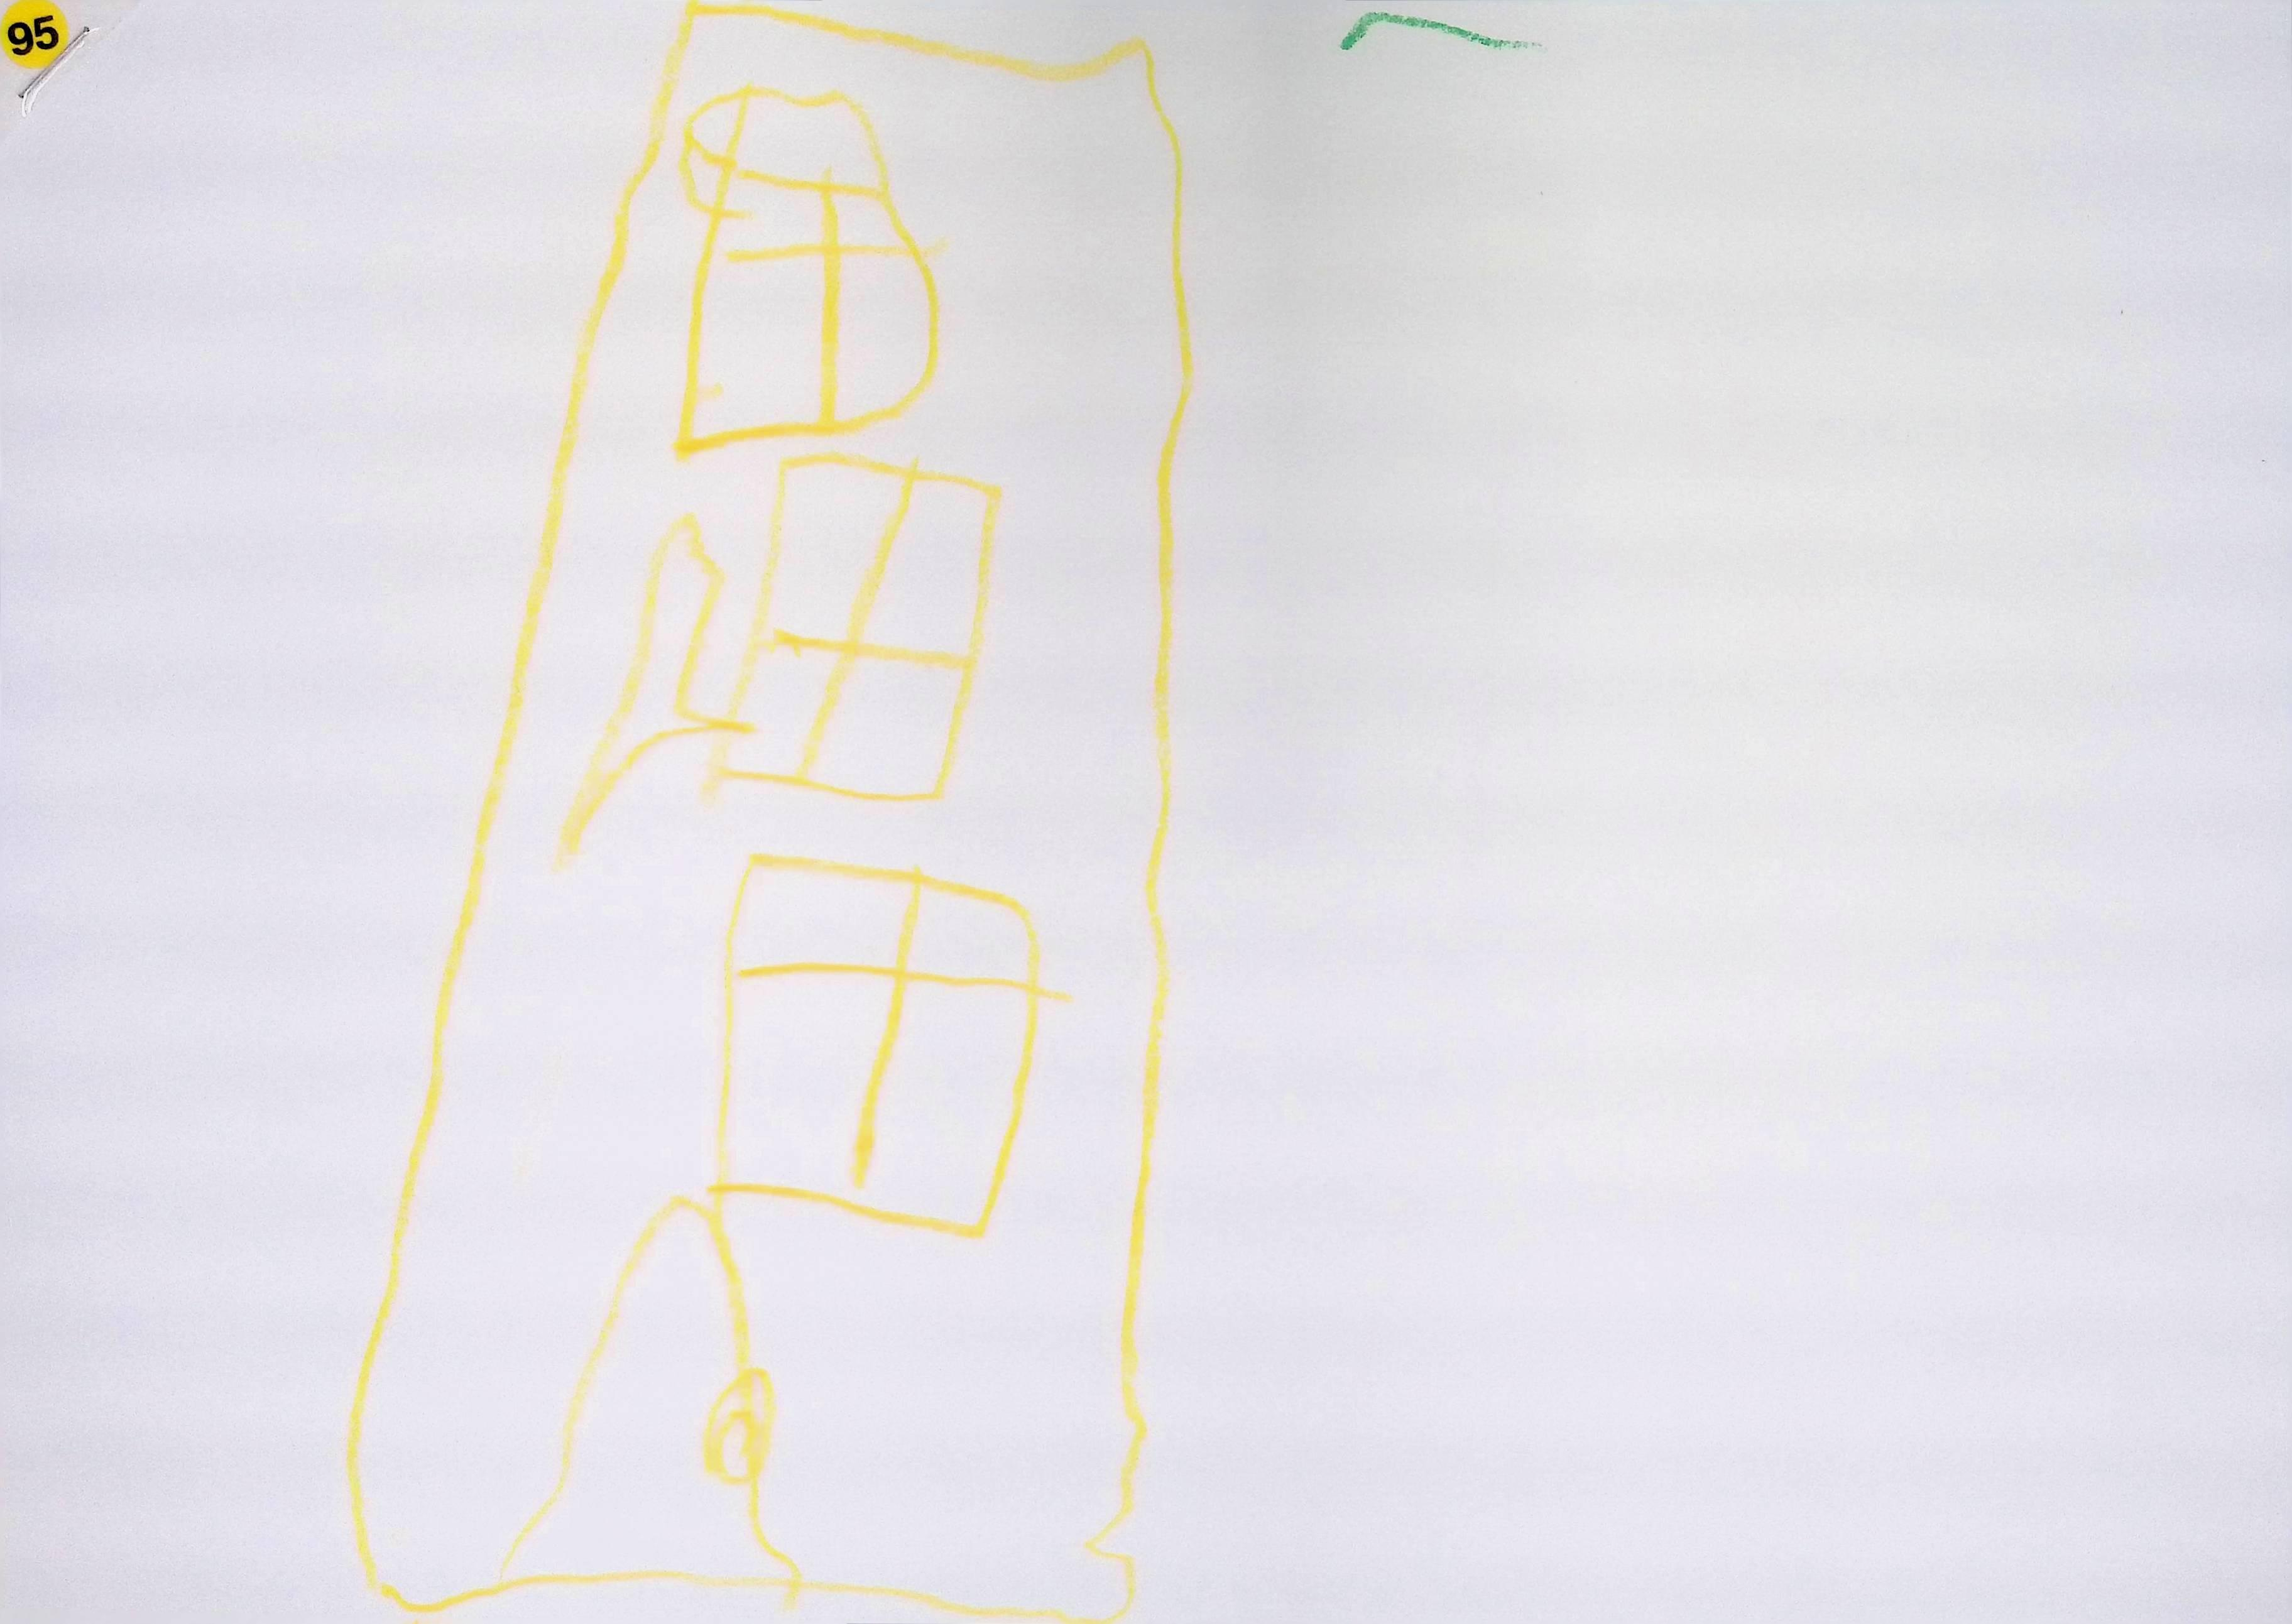door: (501, 1200, 794, 1587)
house: (348, 5, 1190, 1620)
wall: (348, 5, 1190, 1620)
window: (717, 858, 1041, 1236), (675, 83, 937, 450), (721, 455, 1000, 798)
